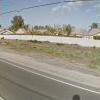Tree: (8, 7, 50, 46)
